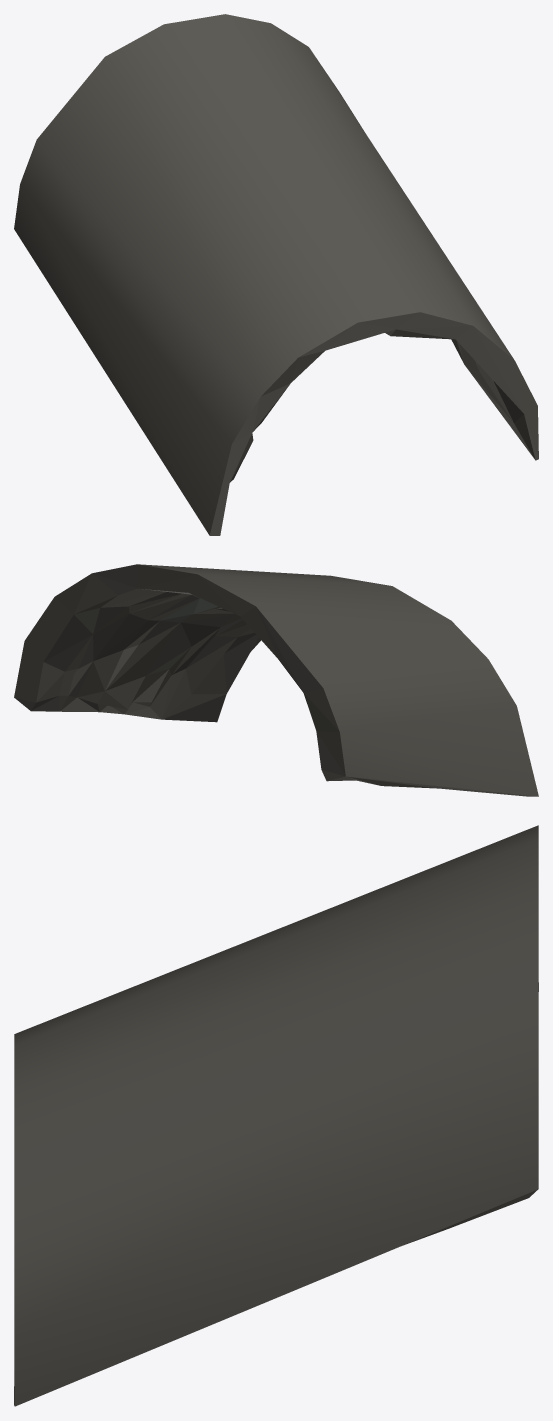
File: MDungeon_CeilingArch_02.FBX
3 views of the same model, one above another, from view 1: azimuth 30°, elevation 25°; view 2: azimuth 150°, elevation 25°; view 3: azimuth 270°, elevation 25° (orthographic). The views are drawn at different scales.
Visible parts, largest first — view 1: MDungeon_CeilingArch_02_LOD0; view 2: MDungeon_CeilingArch_02_LOD0; view 3: MDungeon_CeilingArch_02_LOD0.
Boxes of the visible parts, bbox=[...] form: MDungeon_CeilingArch_02_LOD0: bbox=[14, 14, 538, 535]; MDungeon_CeilingArch_02_LOD0: bbox=[14, 564, 538, 796]; MDungeon_CeilingArch_02_LOD0: bbox=[14, 825, 538, 1406].
Size of what is drawn, in the model's own units: 6.05 by 5.78 by 6.1.
